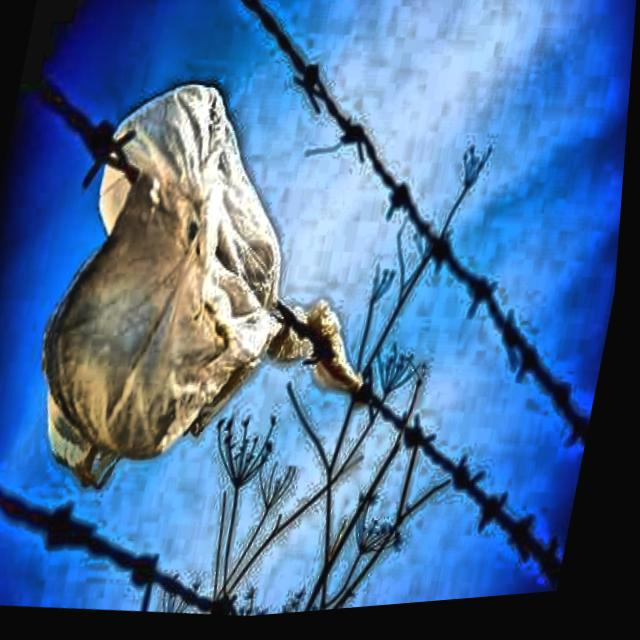Plastic: (18, 24, 435, 553)
